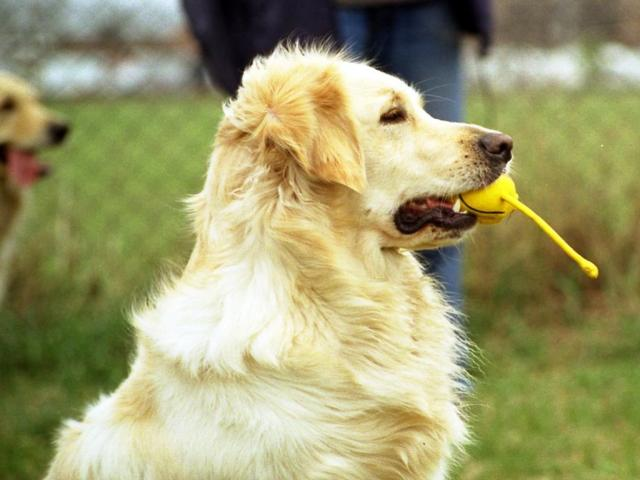Dog: (42, 40, 512, 479)
